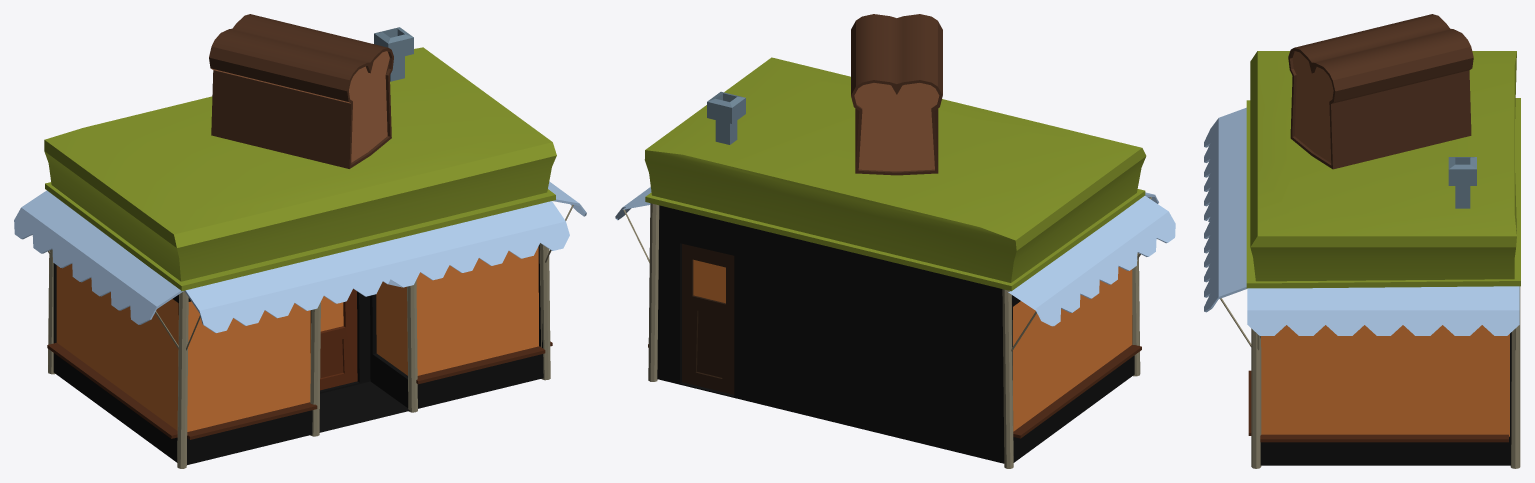
File: Bakkerij_Export.FBX
3 views of the same model, side by side, from view 1: azimuth 30°, elevation 25°; view 2: azimuth 150°, elevation 25°; view 3: azimuth 270°, elevation 25° (orthographic). The views are drawn at different scales.
Visible parts, largest first — view 1: Bakkerij; view 2: Bakkerij; view 3: Bakkerij.
Boxes of the visible parts, x1,y1,x2,y2 form: Bakkerij: [14, 14, 586, 468]; Bakkerij: [615, 14, 1175, 468]; Bakkerij: [1204, 14, 1520, 468].
Bounding box in the file's own units: 741 × 453 × 531.
